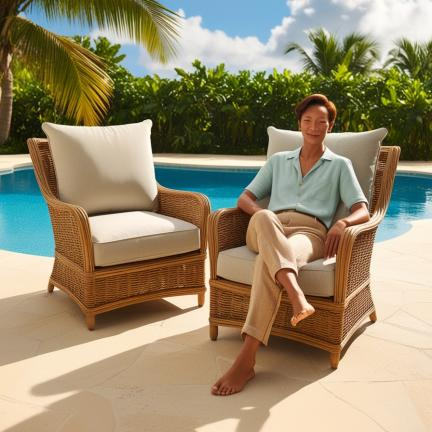empty chair: (28, 120, 211, 329)
guest on chair: (208, 94, 400, 395)
